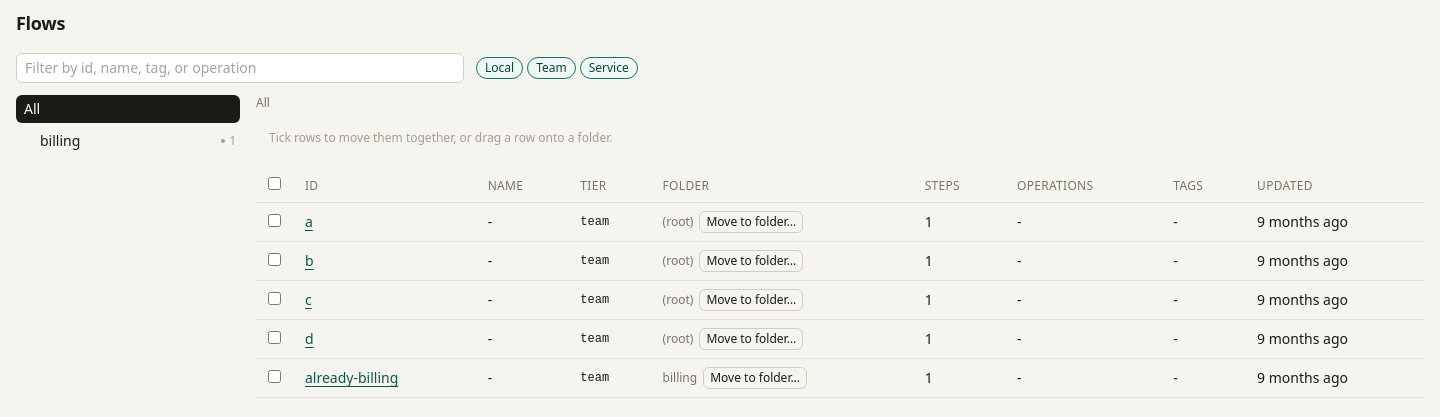
it: bulk move (via FlowsPage) › clears the selection when the text filter changes
Expected: the link "a" is shown, [305,212,313,231]
Click the checkbox named "select a" at coordinates (274, 220), box [268,214,281,227]
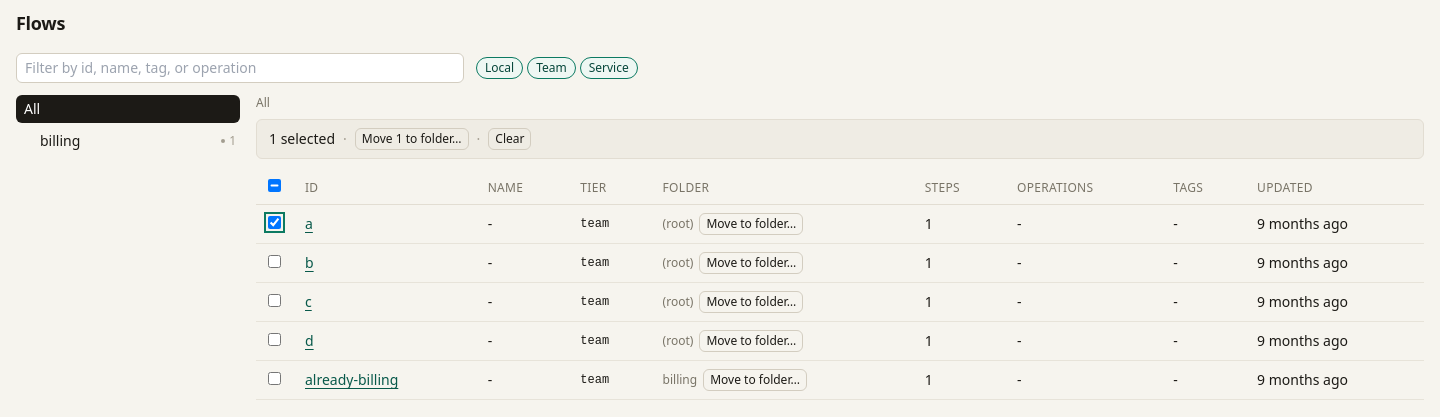
Expected: the text "1 selected" is shown, [269,129,335,149]
Type "a" into the field with placeholder "Filter by id, name, tag, or operation" at coordinates (240, 68), box [16,53,464,83]
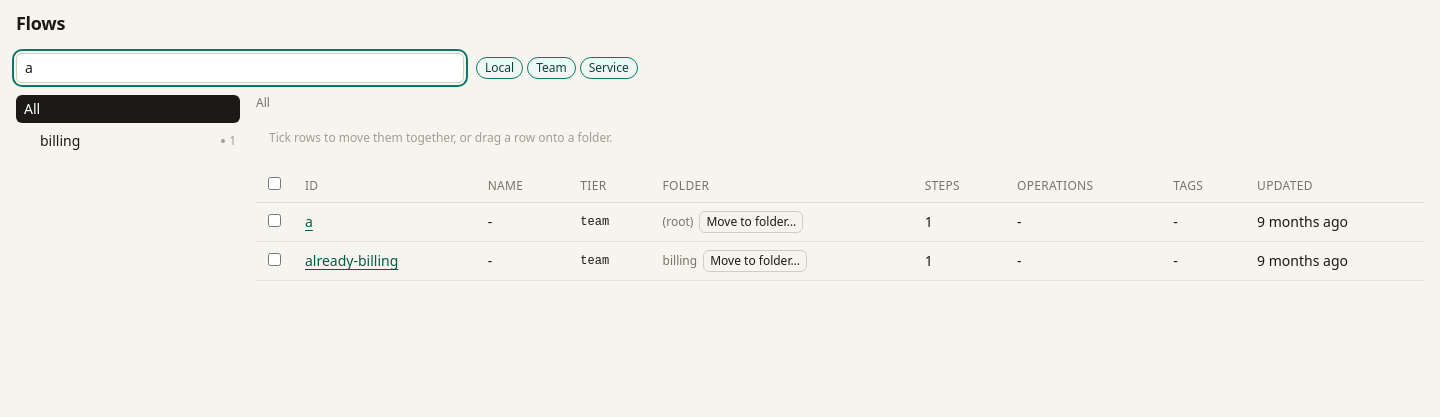
Expected: the text "1 selected" is gone
